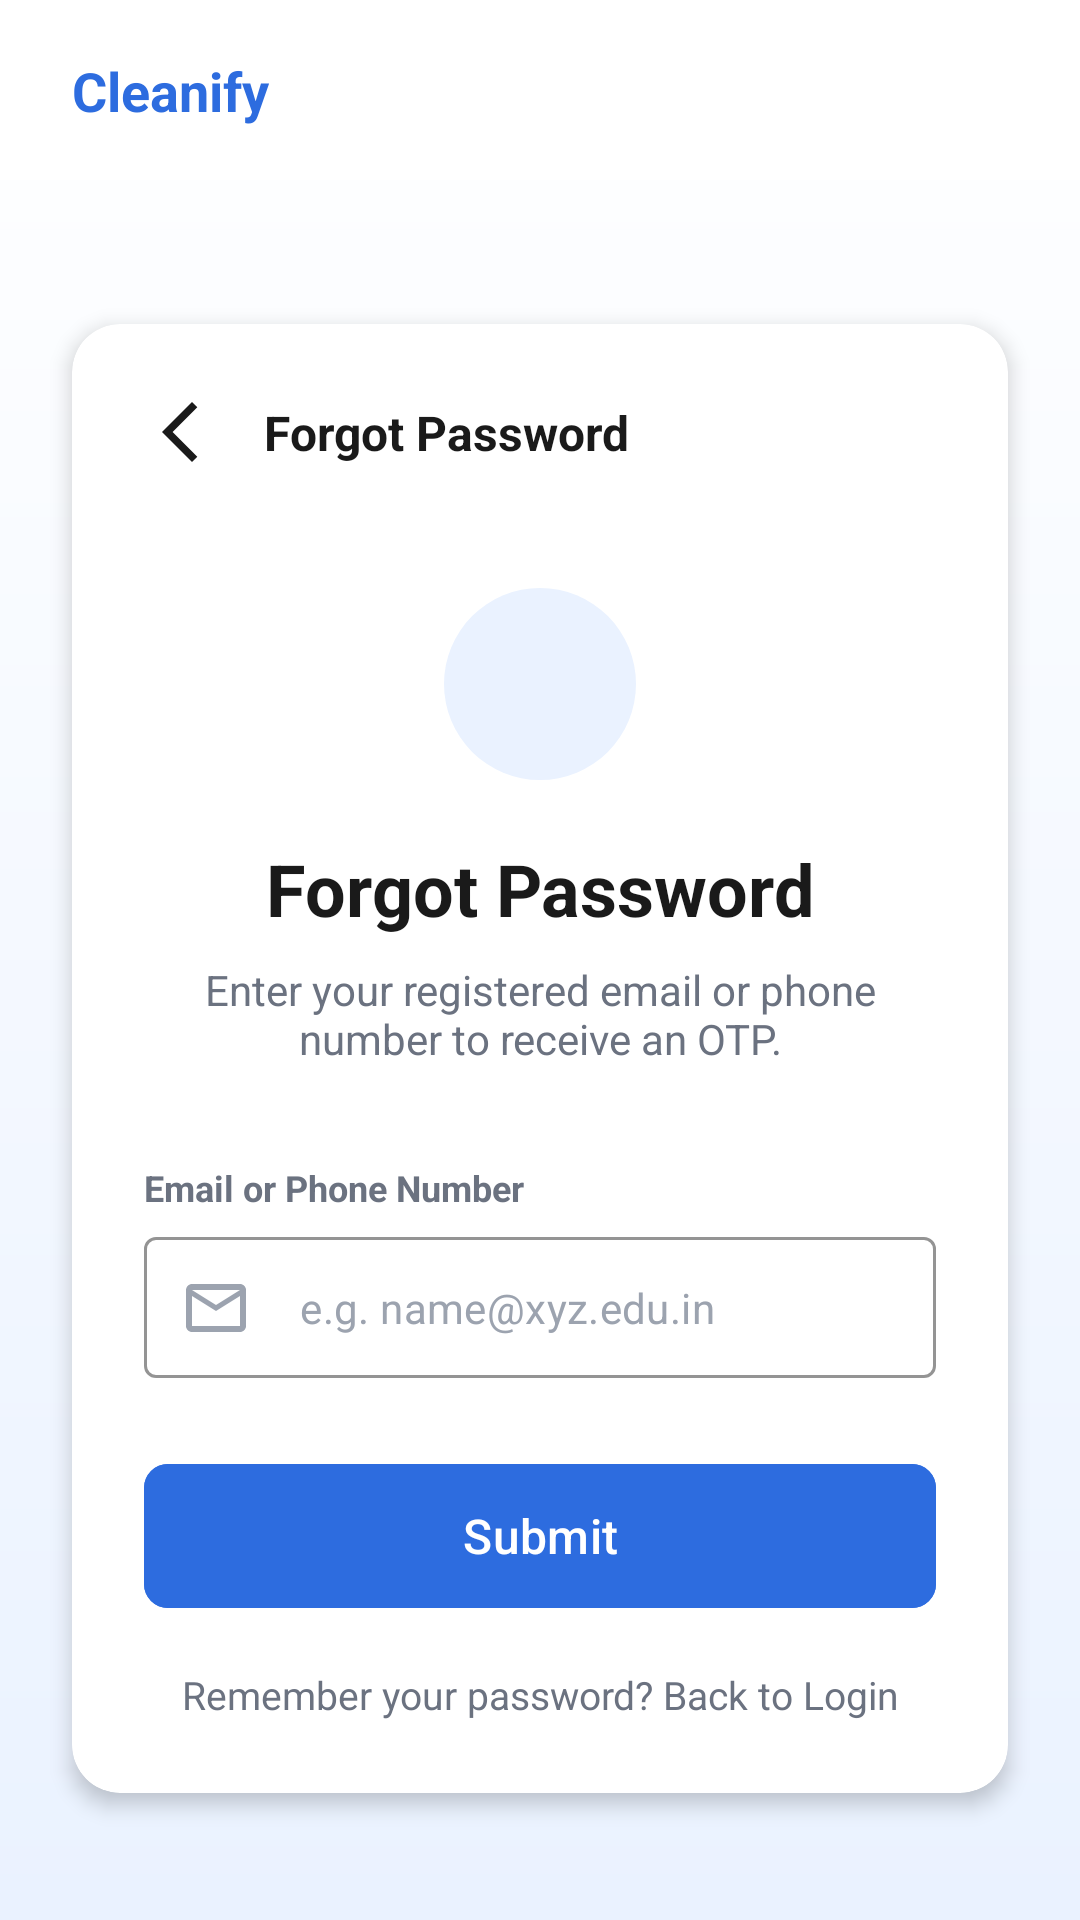

Icons on this 1080 x 1920 Android screen, each with its box as Rect(x1, y1, x2, y2):
arrow back: Rect(162, 402, 197, 462)
